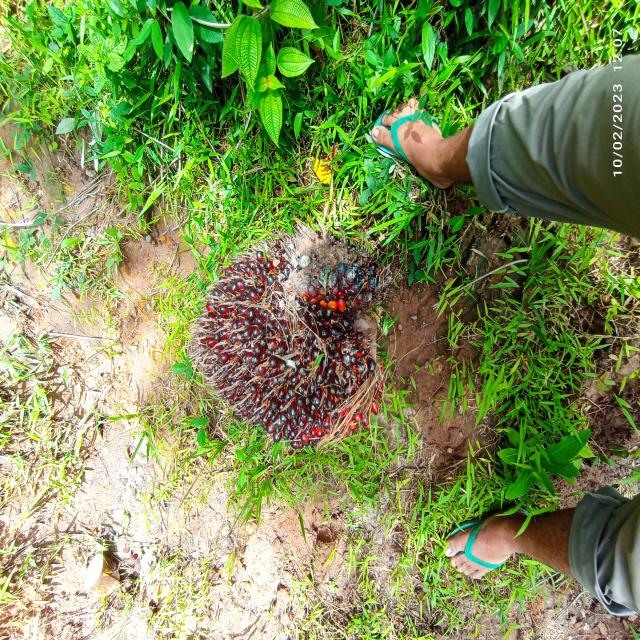fraksi 1: (166, 219, 410, 466)
